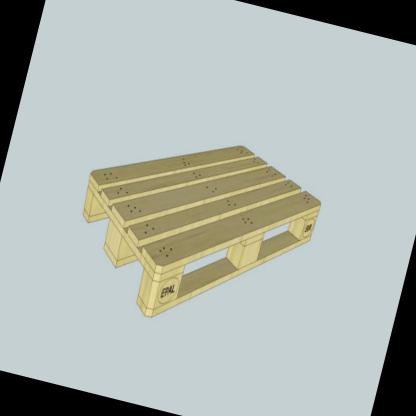BoxFace: (80, 143, 323, 320)
